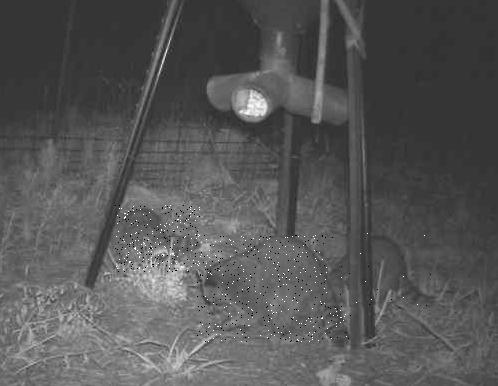Raccoon: (197, 236, 351, 343), (328, 233, 433, 307), (115, 206, 201, 273)
